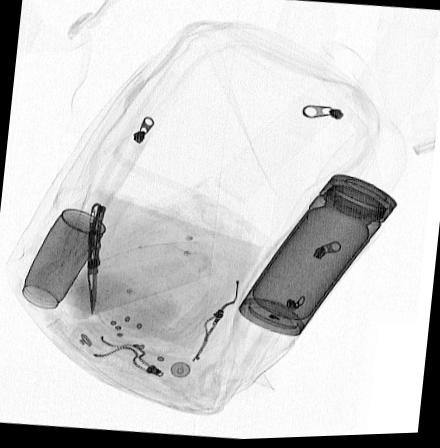Knife: (86, 203, 105, 316)
